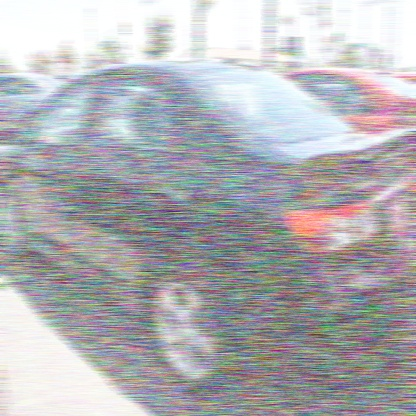Vehicle: (1, 47, 415, 415)
